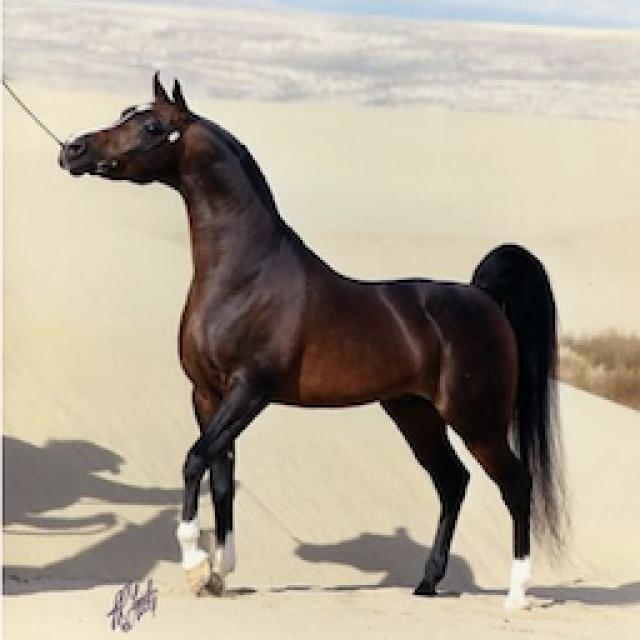Horse: (50, 65, 585, 613)
